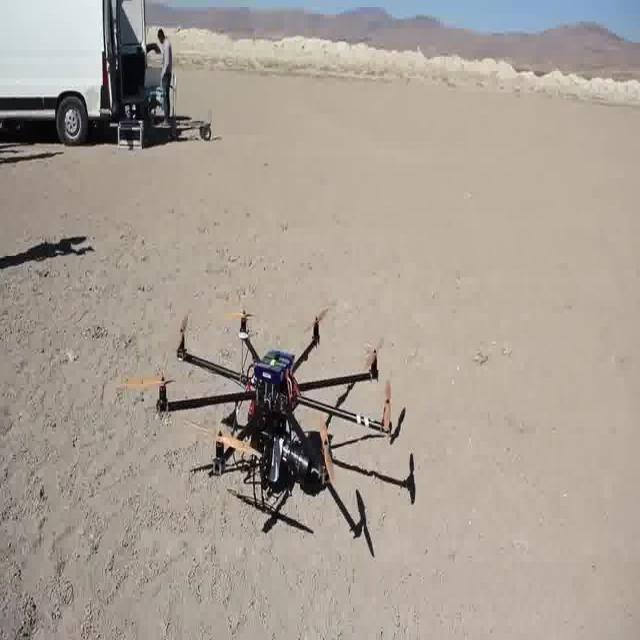Drone_FW: (124, 295, 396, 502)
